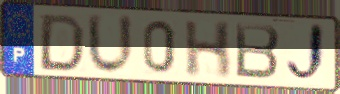0: (140, 18, 180, 76)
B: (233, 21, 282, 82)
D: (36, 13, 88, 74)
H: (183, 20, 234, 80)
J: (284, 21, 328, 86)
U: (85, 11, 137, 78)
